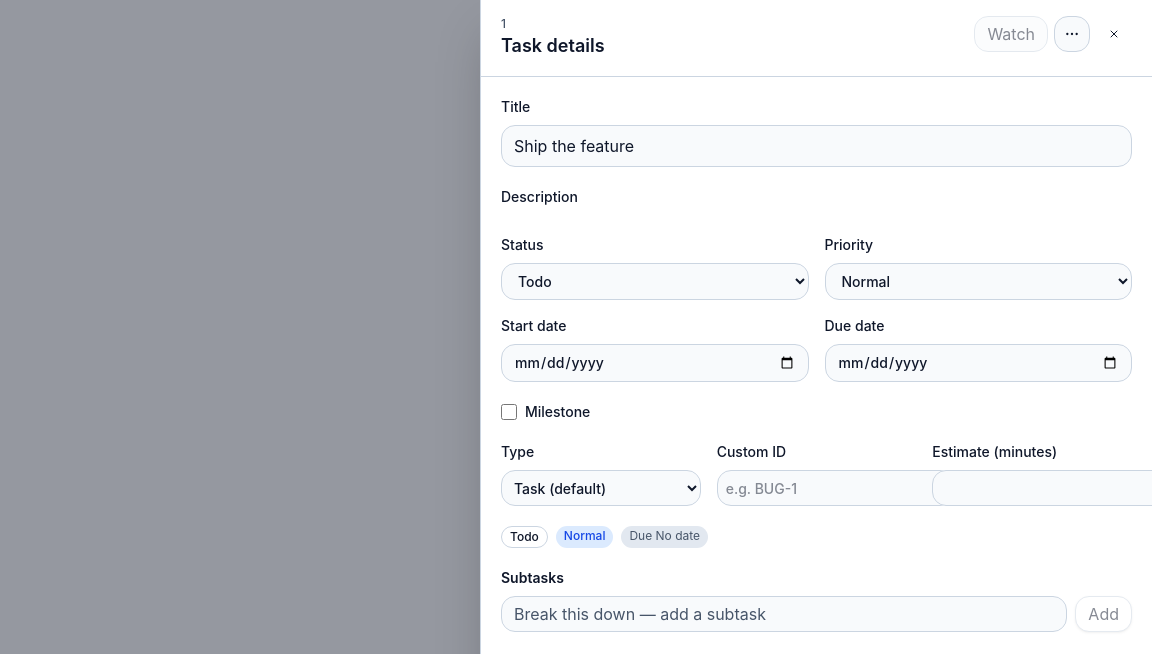
Test: TaskDetailPanel header actions › confirms deletion in its own strip rather than in the header
Check: the field showing "Ship the feature" is shown, box [501,125,1132,167]
Click the button named "More task actions" at (1072, 34), box [1054,16,1090,52]
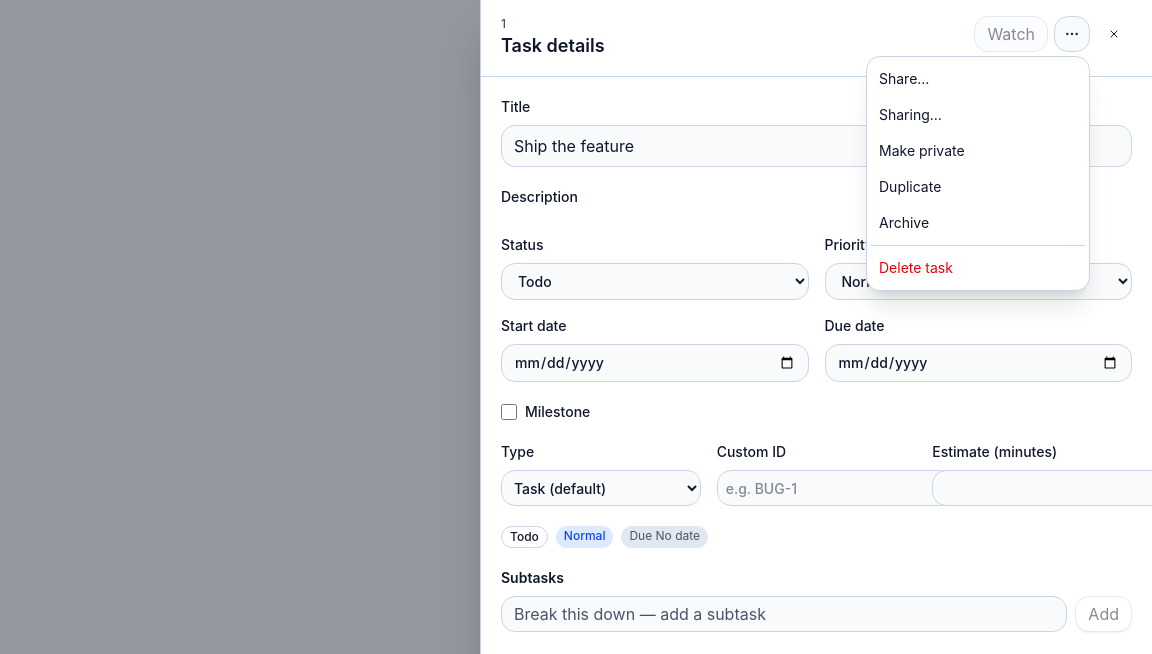
Click the menu item "Delete task" at (978, 268), box [871,250,1085,286]
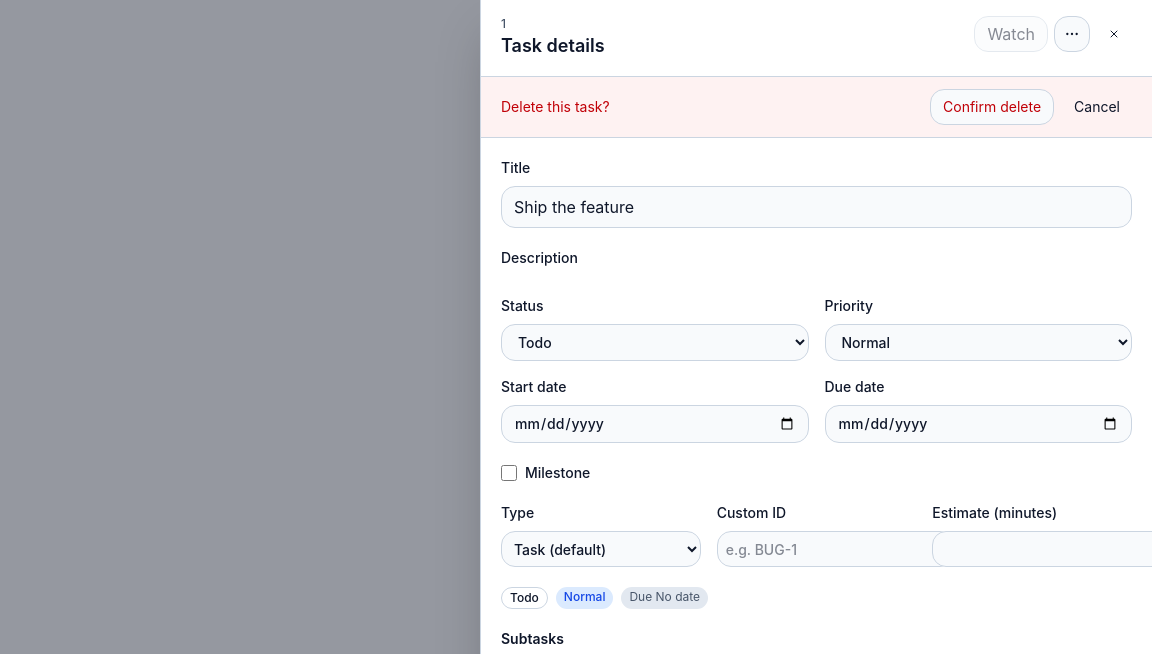
Check: the menu is gone
Check: the dialog named "Confirm task deletion" is shown, box [481,77,1151,138]
Check: the button "Confirm delete" is shown, box [930,89,1054,125]
